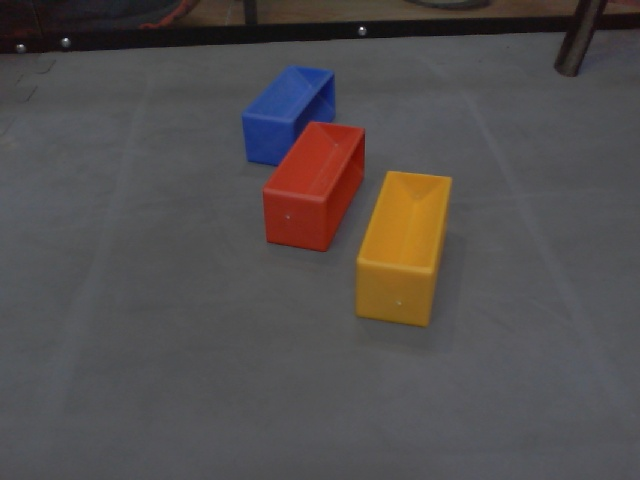BlueSample: (240, 64, 338, 170)
RedSample: (260, 119, 367, 254)
YellowSample: (354, 168, 454, 330)
